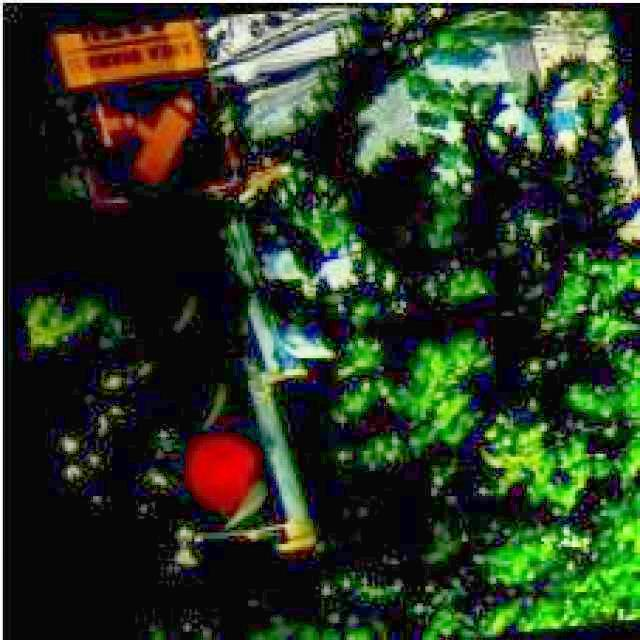red: (130, 262, 297, 538)
